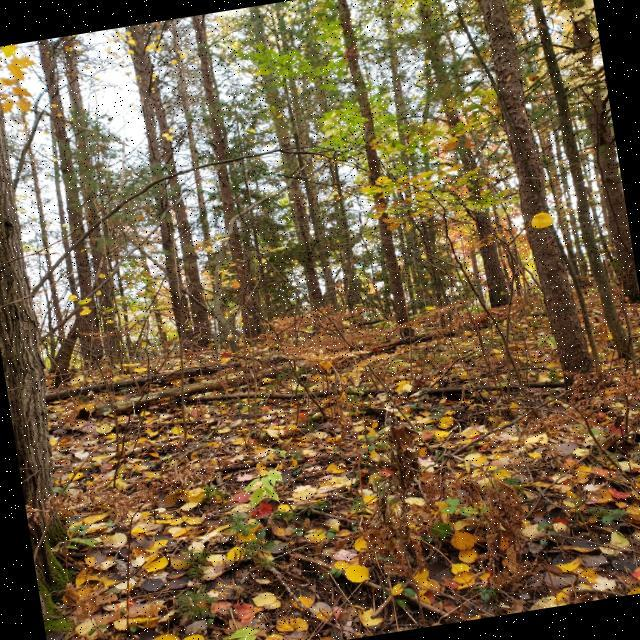fallen_object: (32, 272, 579, 488)
